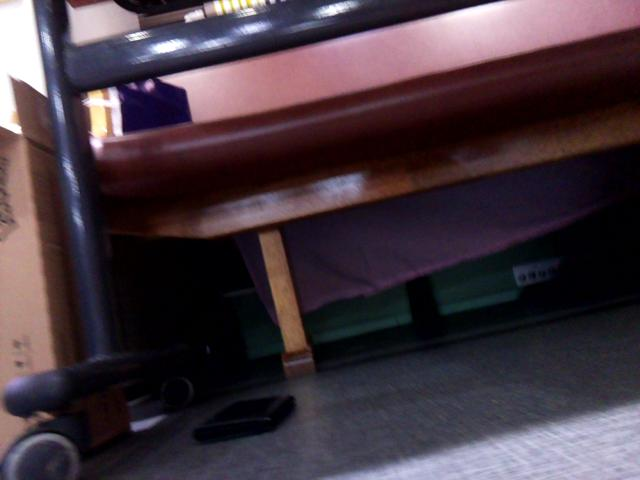wallet: (187, 388, 315, 447)
